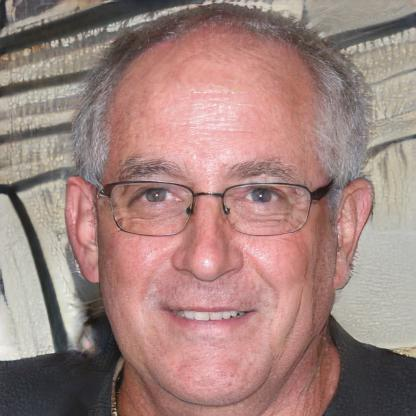glasses: (93, 174, 331, 242)
